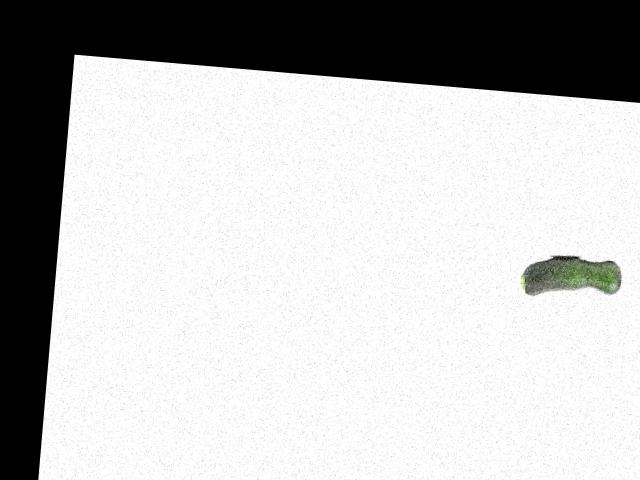cucumber: (519, 252, 622, 303)
